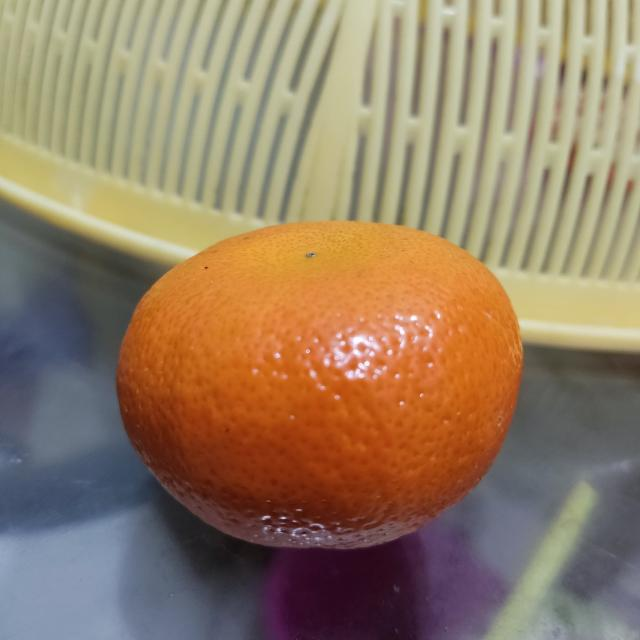orange: (112, 218, 524, 546)
